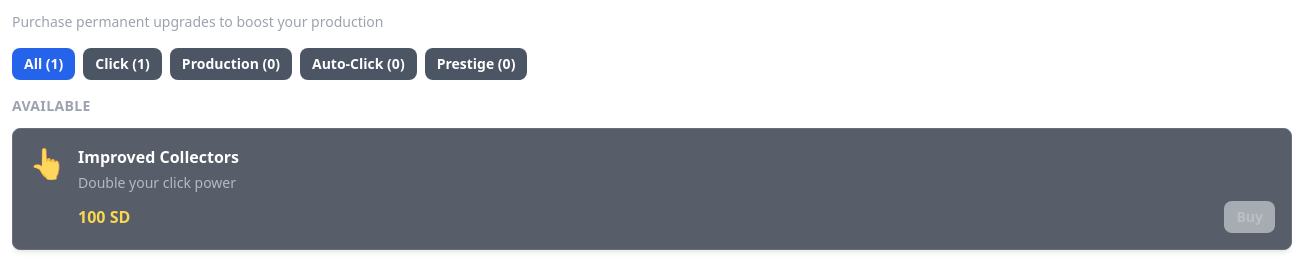
UpgradesPanel › should show empty state when no upgrades in category
Click the button with aria-label "Production upgrades tab" at (231, 64), box left=170, top=48, right=292, bottom=80
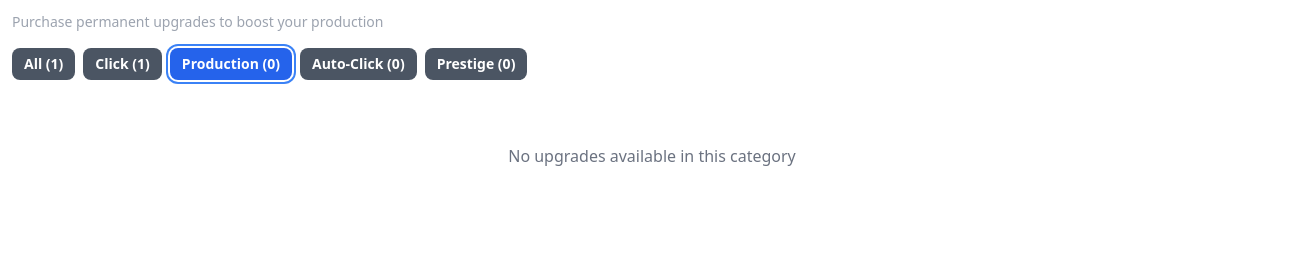
Now the text "No upgrades available in this category" is shown, box left=508, top=145, right=796, bottom=167
